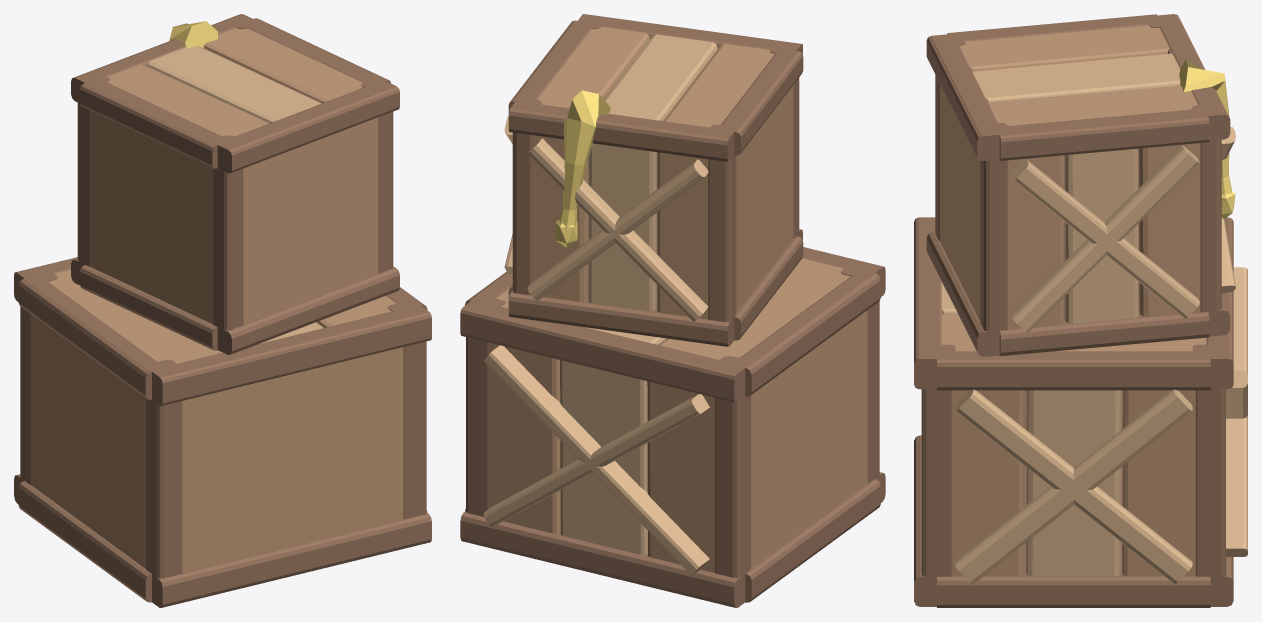
Rendered from Kit_Crates.fbx.
The picture shows the model from 3 angles, left to right: view 1: azimuth 30°, elevation 25°; view 2: azimuth 150°, elevation 25°; view 3: azimuth 270°, elevation 25°; orthographic projection. The views are drawn at different scales.
Parts seen in each view (by area): view 1: Kit_Crates; view 2: Kit_Crates; view 3: Kit_Crates.
Boxes of the visible parts, box(x1,y1,x2,y2) form: Kit_Crates: box(14, 14, 431, 607); Kit_Crates: box(460, 14, 885, 607); Kit_Crates: box(914, 14, 1247, 607).
Bounding box in the file's own units: 1.18 × 1.77 × 1.1.
